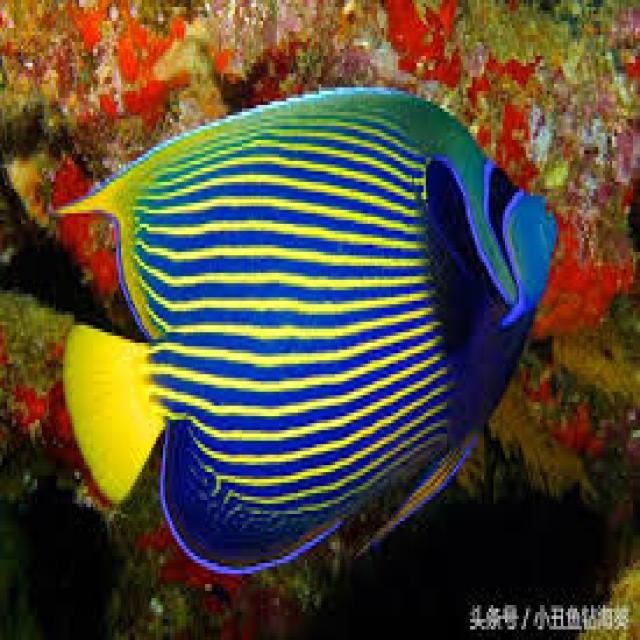AngelFish: (51, 86, 555, 567)
